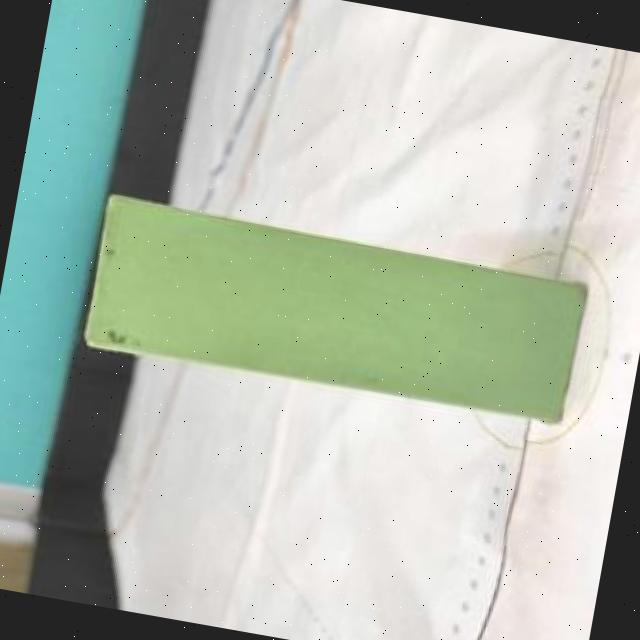greenbox: (80, 194, 593, 428)
